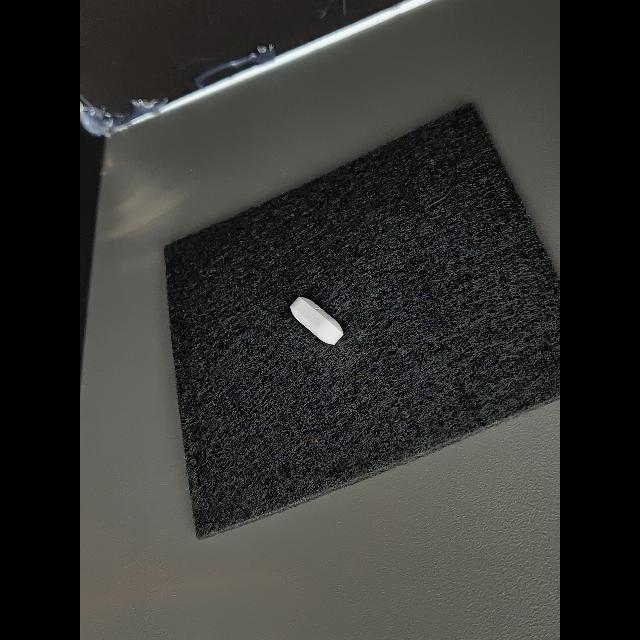Intact Pill: (290, 297, 343, 345)
